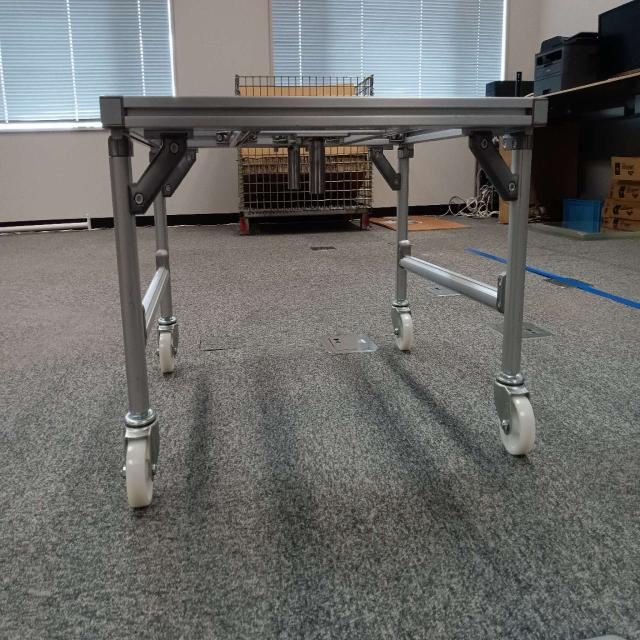door: (105, 92, 532, 210)
